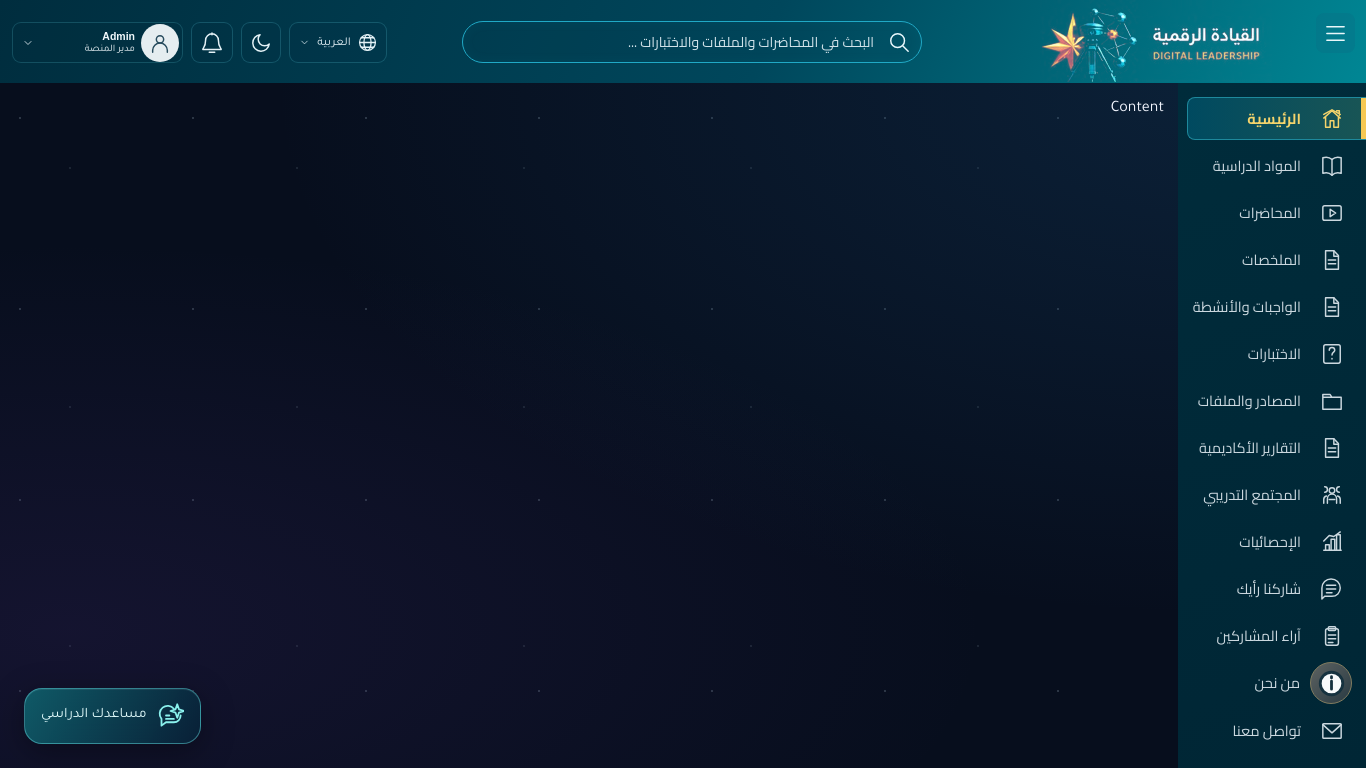
Test: reference application shell › keeps navigation, search and account actions functional
The width and height of the screenshot is (1366, 768).
Click the button named "Open menu" at (1336, 33), box [1316, 13, 1355, 53]
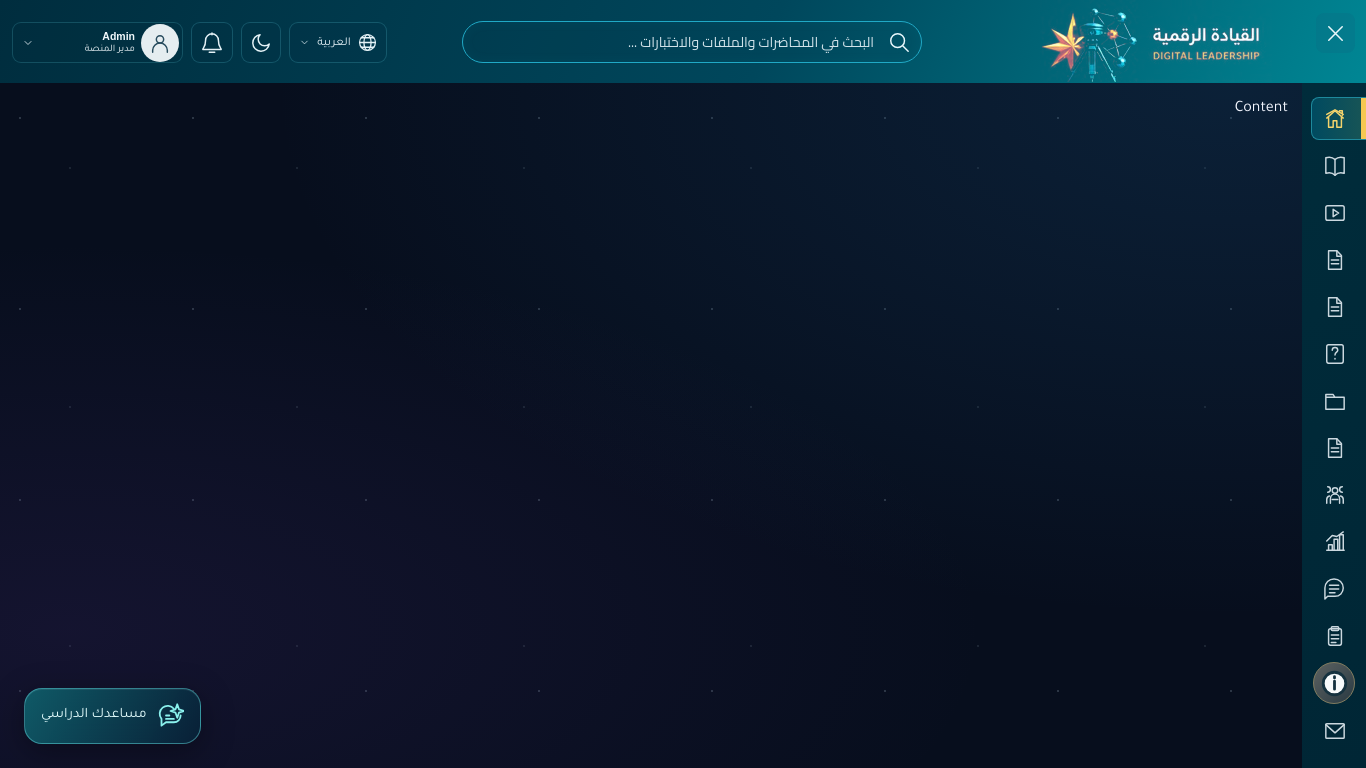
Press Escape
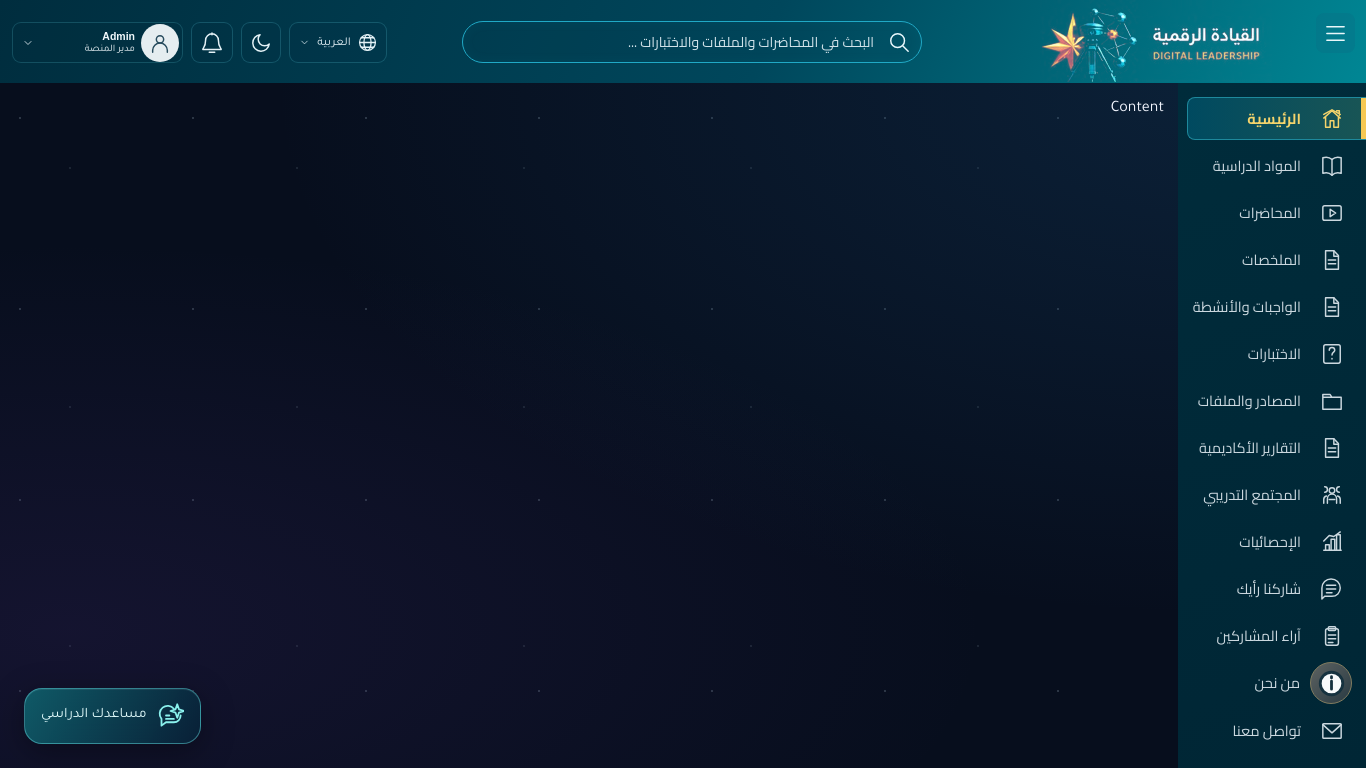
Click the button with aria-label "قائمة الحساب" at (98, 42), box [12, 22, 183, 63]
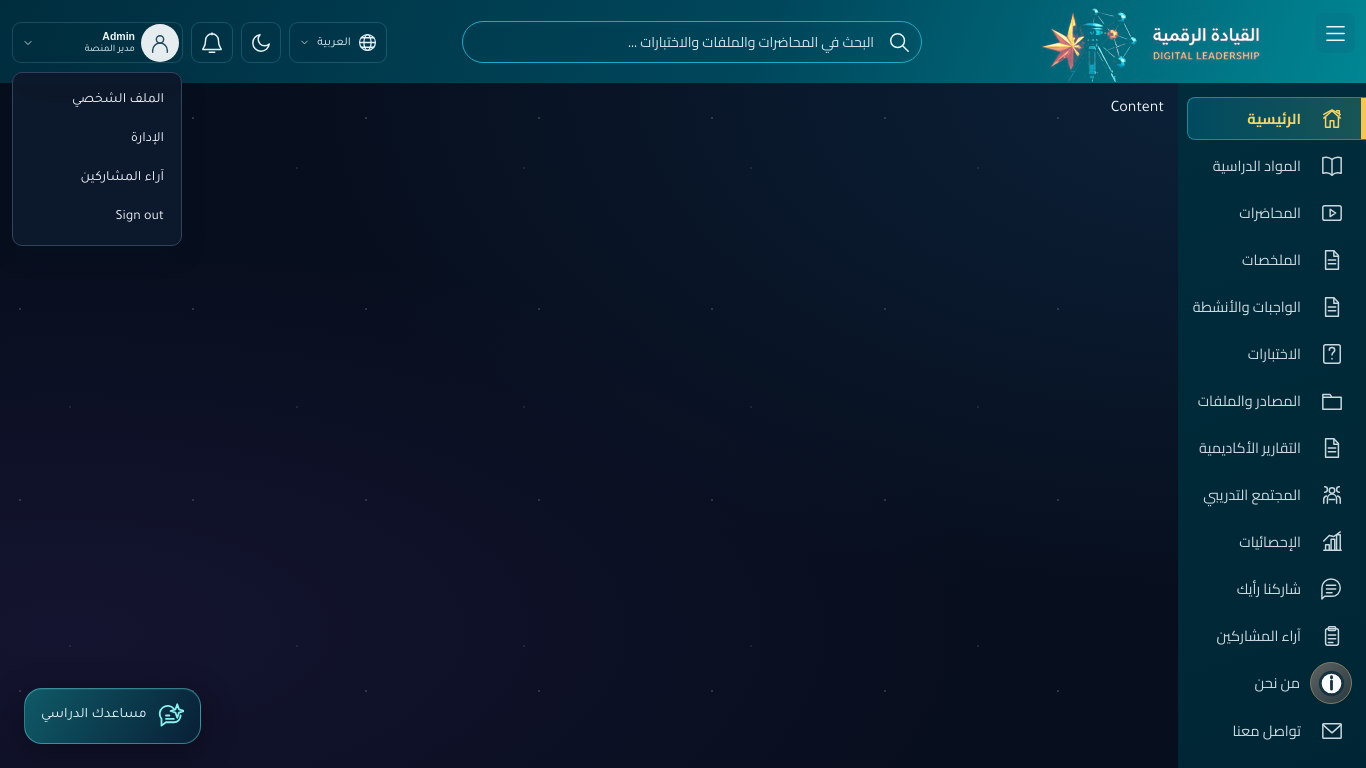
Now the button "Sign out" is shown, box [21, 198, 173, 237]
